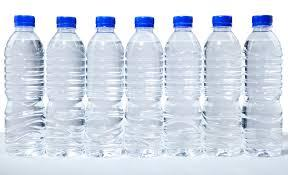Plastic bottle: (6, 13, 288, 159)
